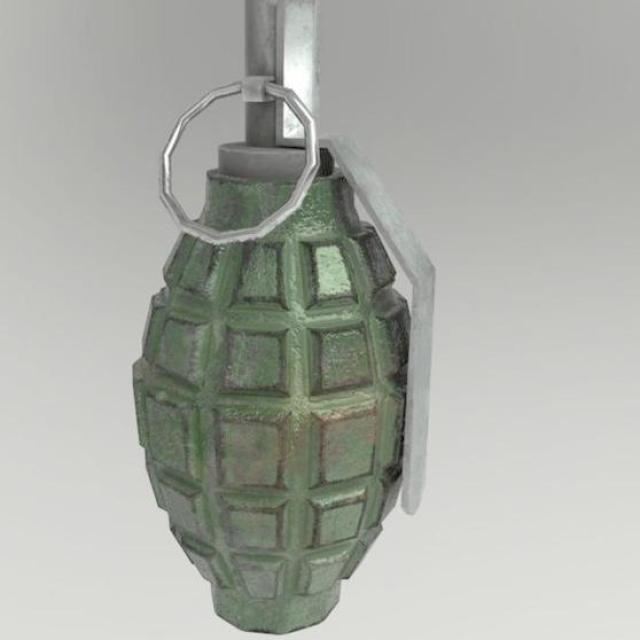grenade: (131, 1, 436, 640)
